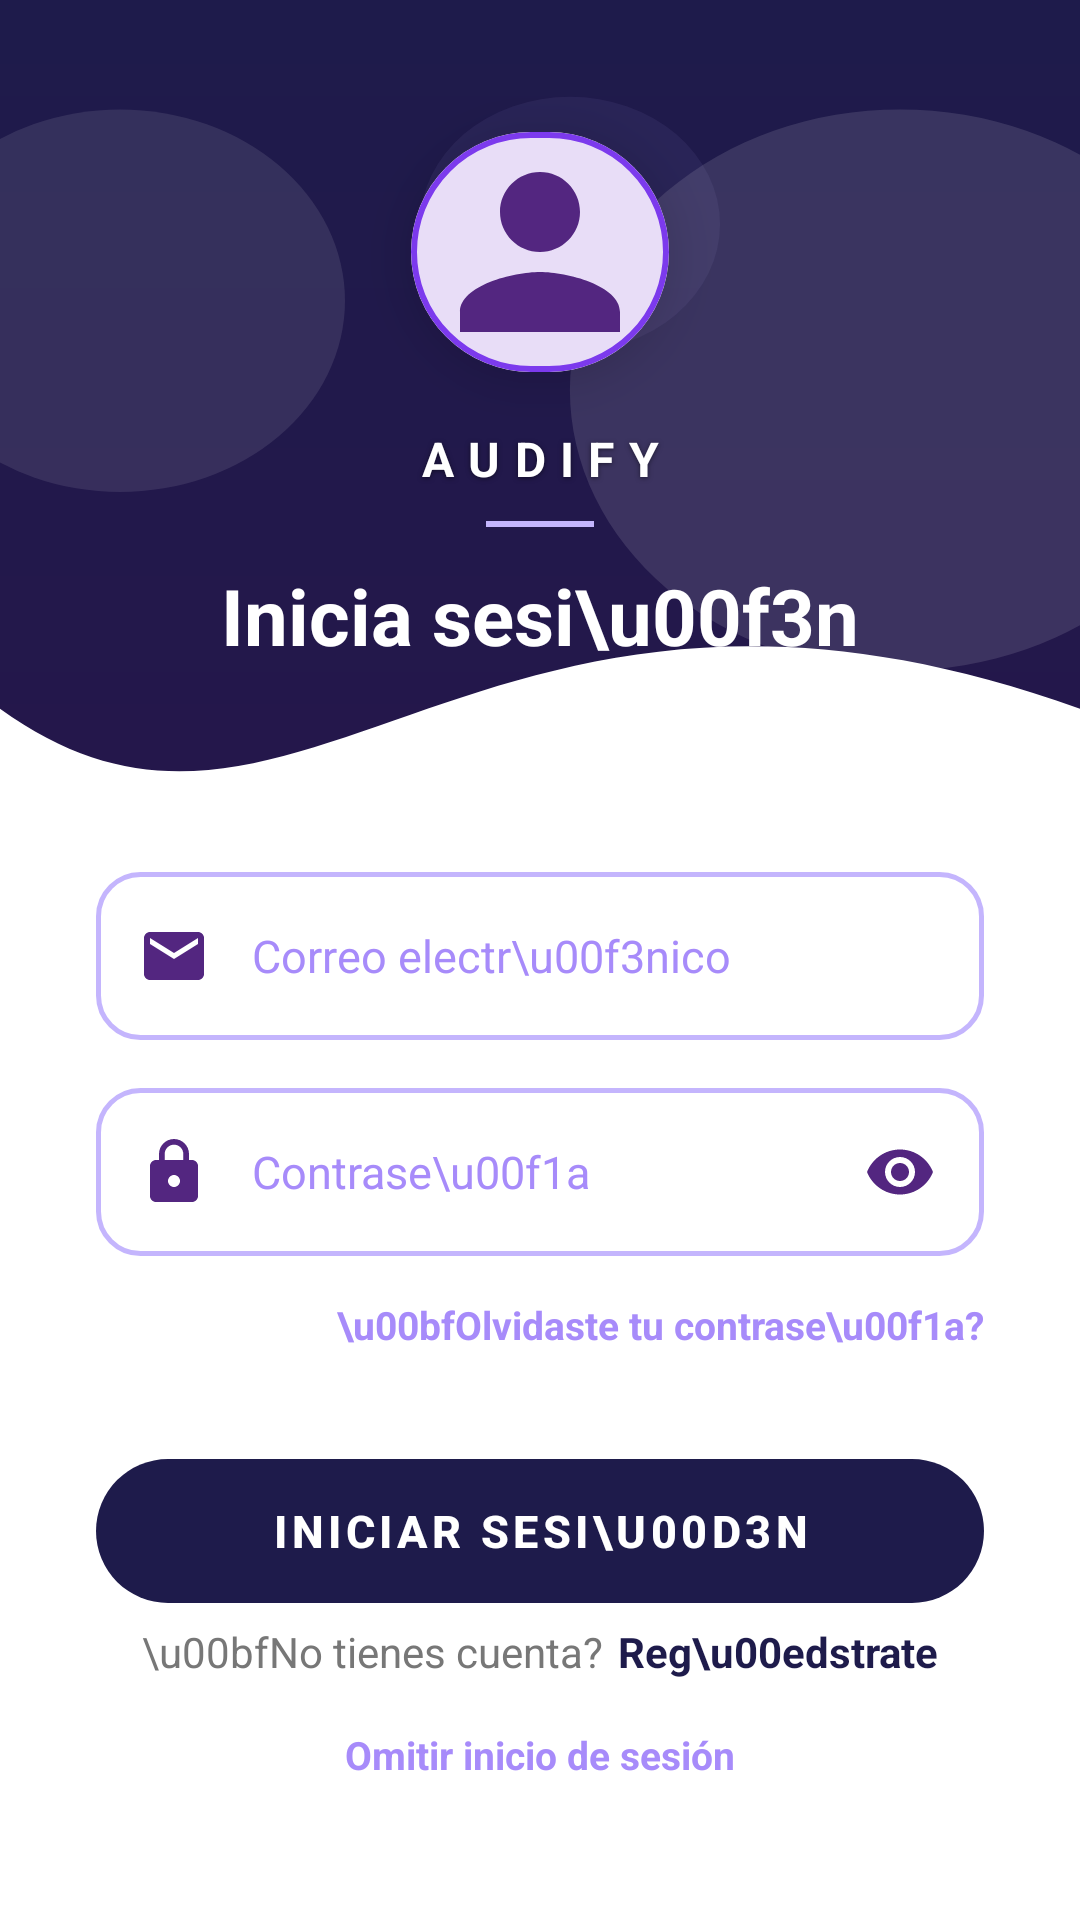

Icons on this 1080w x 1920h Android screen, each with the point to tap as point (x, y):
user: point (540, 252)
visibility: point (900, 1172)
